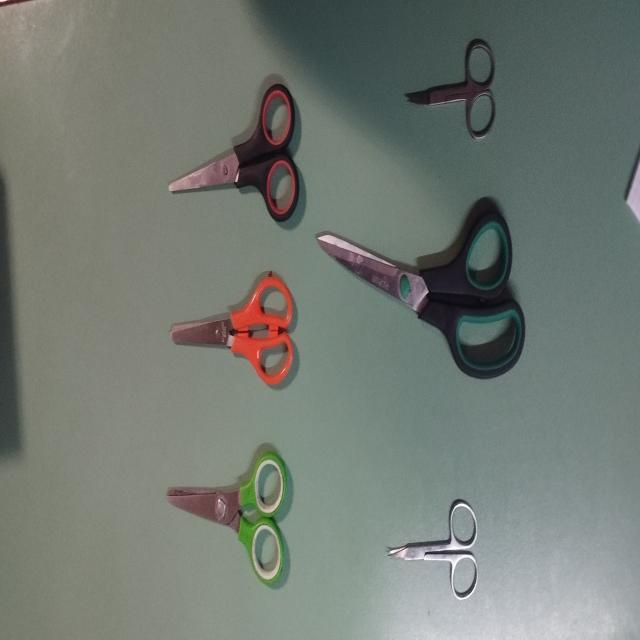tesoura: (316, 205, 527, 382), (167, 76, 300, 227), (165, 447, 286, 587), (168, 273, 295, 389), (402, 34, 497, 144), (385, 495, 479, 601)
